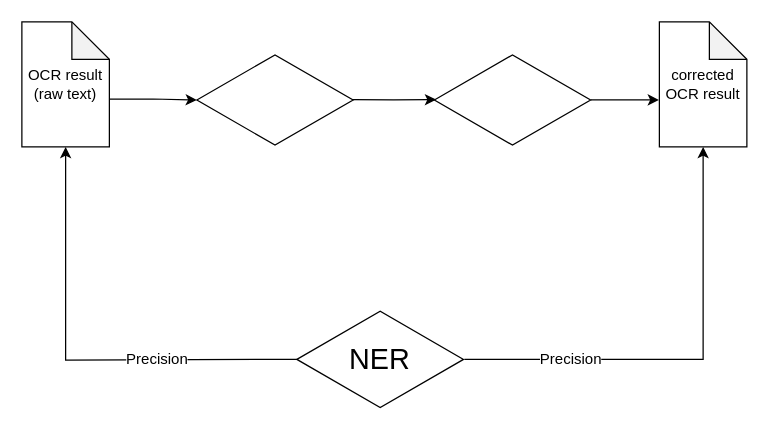
Image size: 769x431. Some labels were removed from this diagram. Here are the shapes that lost their labels. From the top down, the centre of each, then its label:
point 274,99: Error detection
point 512,99: Error correction
